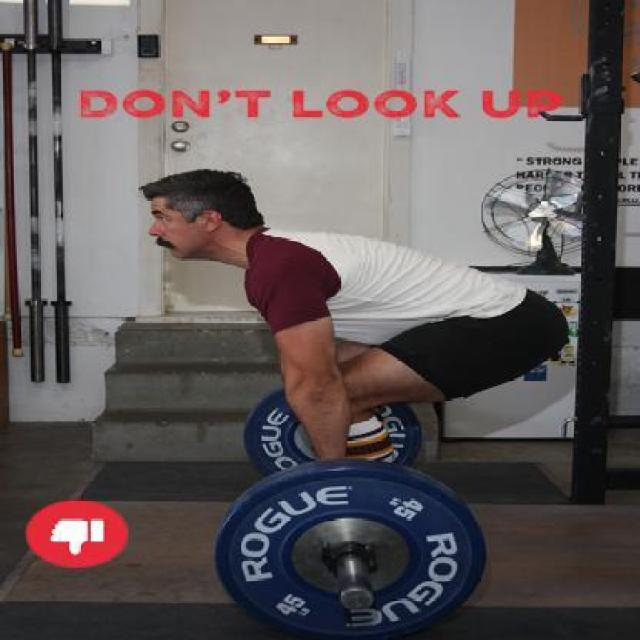barbell: (213, 467, 490, 637)
